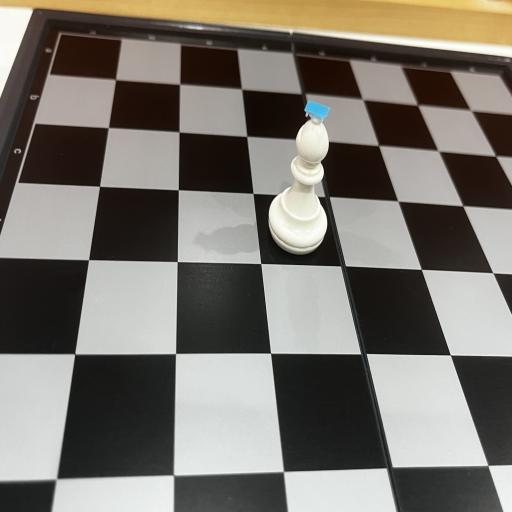White bishop: (268, 100, 331, 254)
